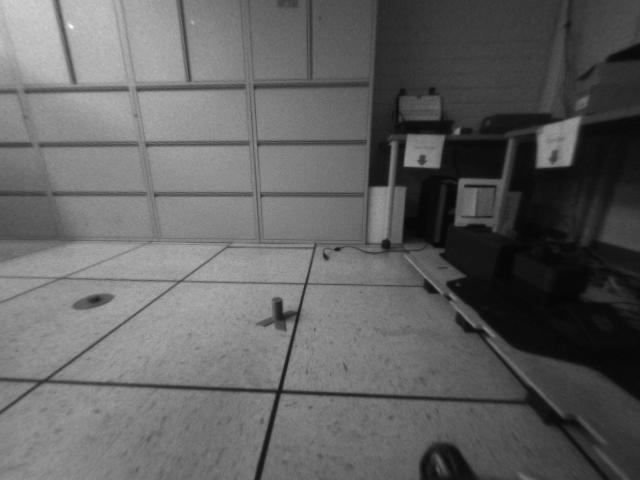X: (257, 296, 298, 331)
